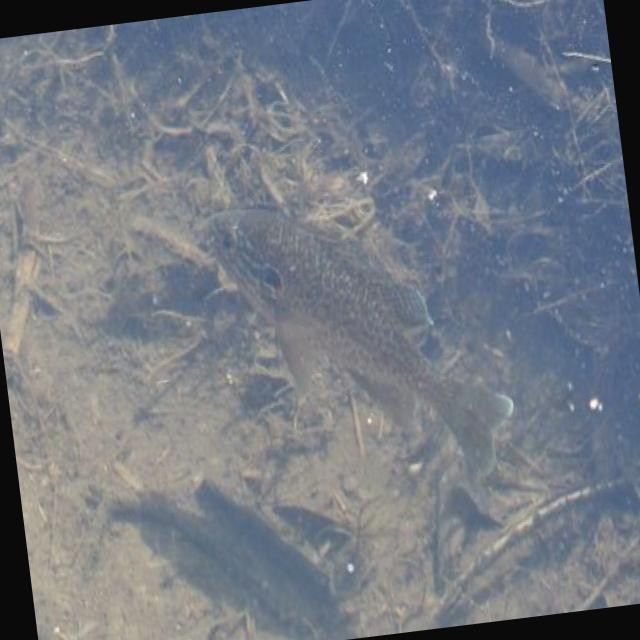Gunes Levregi: (201, 167, 518, 503)
